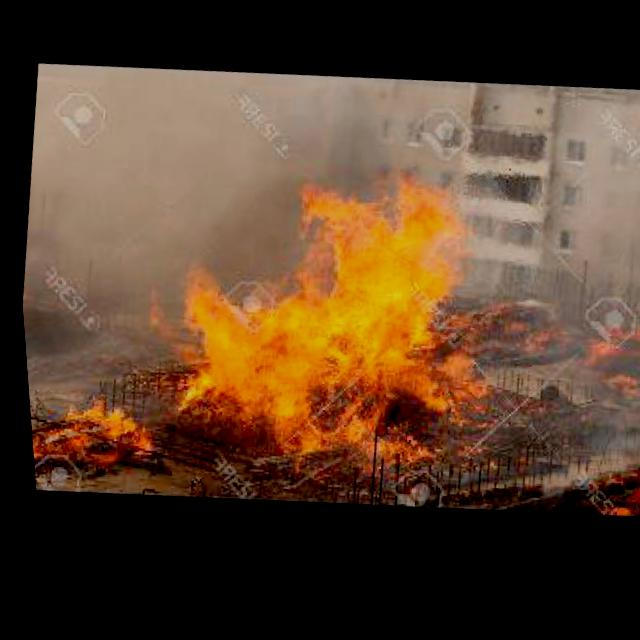Fire: (145, 131, 505, 505), (23, 382, 156, 495), (588, 466, 640, 530)
